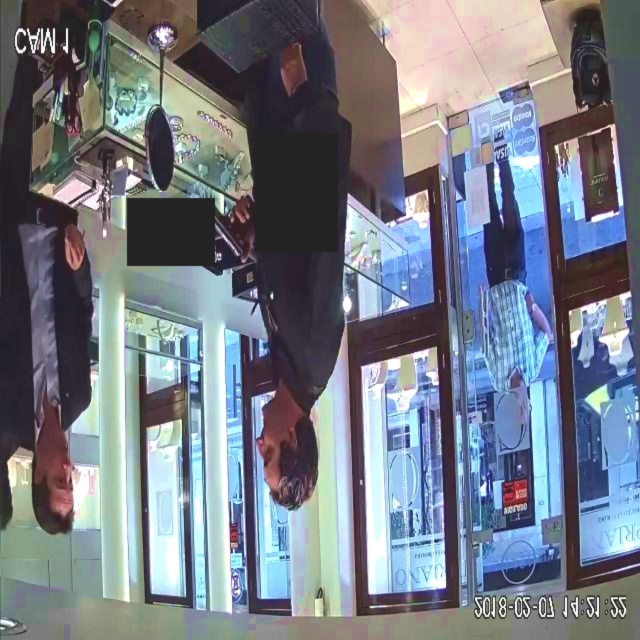gun: (198, 180, 258, 266)
